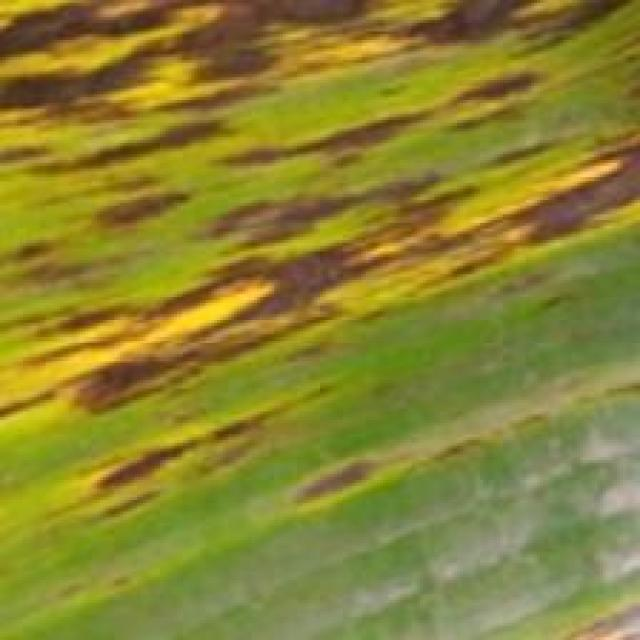Early_leaf_spot: (0, 0, 640, 527), (262, 435, 406, 520), (530, 565, 640, 640)
